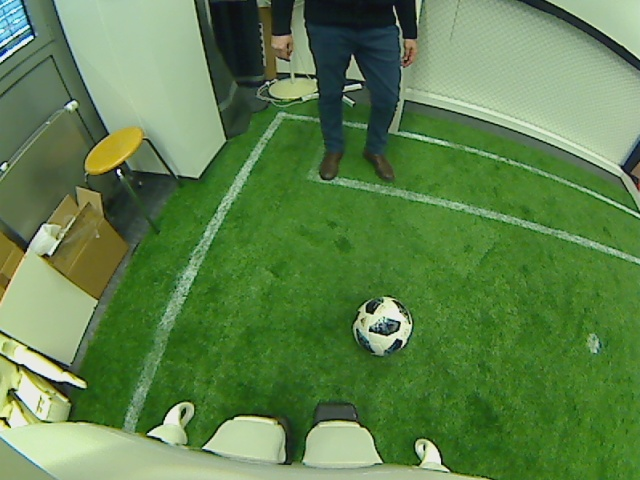ball: (352, 292, 414, 358)
